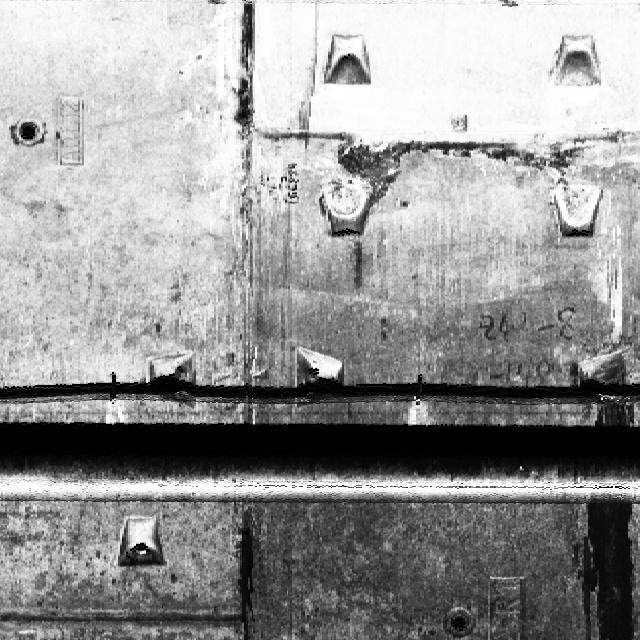leakage: (560, 355, 639, 639), (226, 0, 269, 161), (227, 499, 261, 639)
